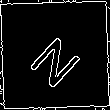N_NE: (23, 23, 87, 87)
